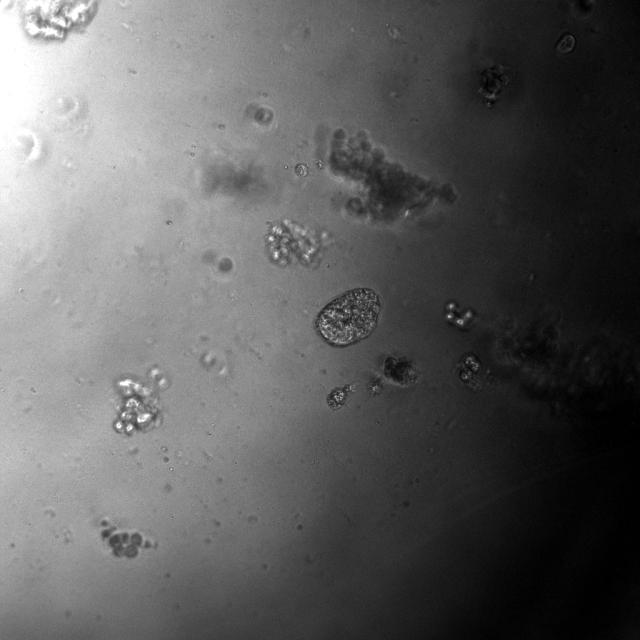organoid: (492, 307, 639, 419), (328, 128, 458, 225), (112, 365, 169, 435), (314, 289, 382, 347), (0, 0, 98, 39), (265, 219, 332, 266), (100, 518, 157, 557), (381, 355, 419, 386), (444, 300, 476, 330), (458, 353, 481, 390), (328, 385, 352, 410), (253, 105, 274, 125), (218, 257, 233, 272), (294, 163, 306, 177)
